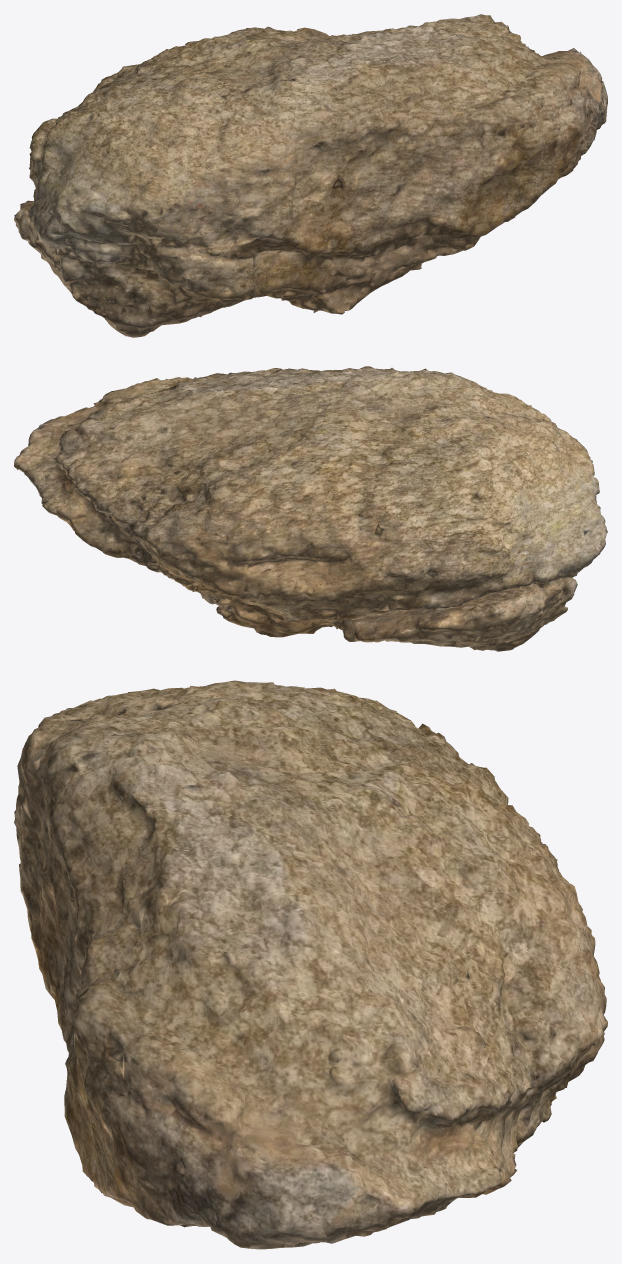
File: boulder.glb
The picture shows the model from 3 angles, top to bottom: view 1: azimuth 30°, elevation 25°; view 2: azimuth 150°, elevation 25°; view 3: azimuth 270°, elevation 25°; orthographic projection. The views are drawn at different scales.
Visible parts, largest first — view 1: namaqualand_boulder_05; view 2: namaqualand_boulder_05; view 3: namaqualand_boulder_05.
Part boxes in pixels (x1=…): namaqualand_boulder_05: x1=14, y1=14, x2=607, y2=337; namaqualand_boulder_05: x1=14, y1=366, x2=607, y2=651; namaqualand_boulder_05: x1=14, y1=680, x2=607, y2=1249.
Bounding box in the file's own units: 1.36 × 0.5383 × 0.748.
1 material, 1 textured.
